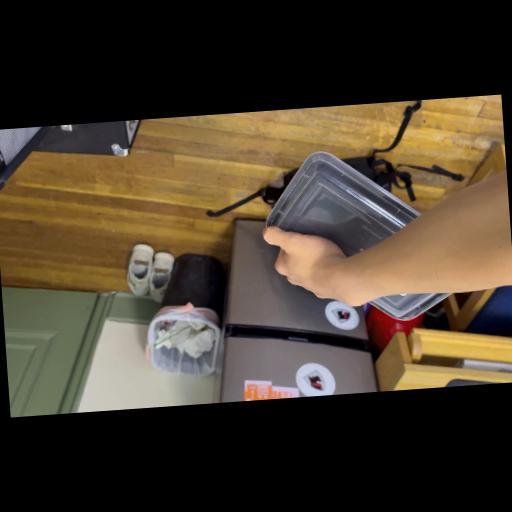rigid_plastic_container: (263, 144, 457, 327)
